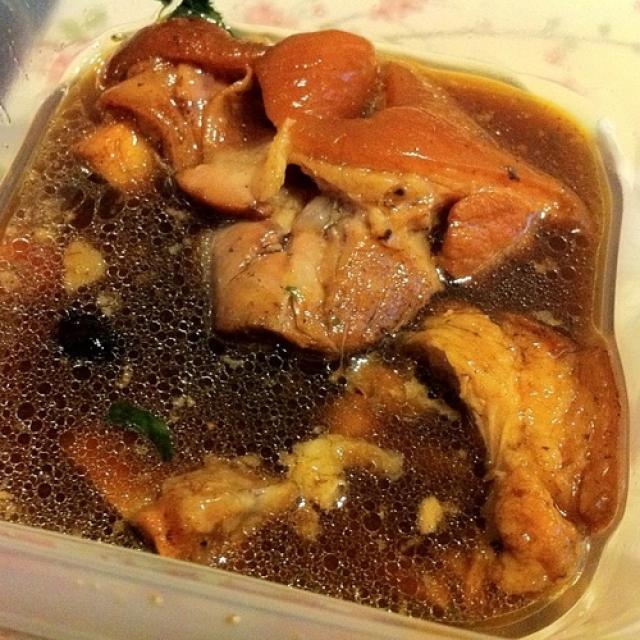猪肉菜式: (19, 16, 621, 618)
